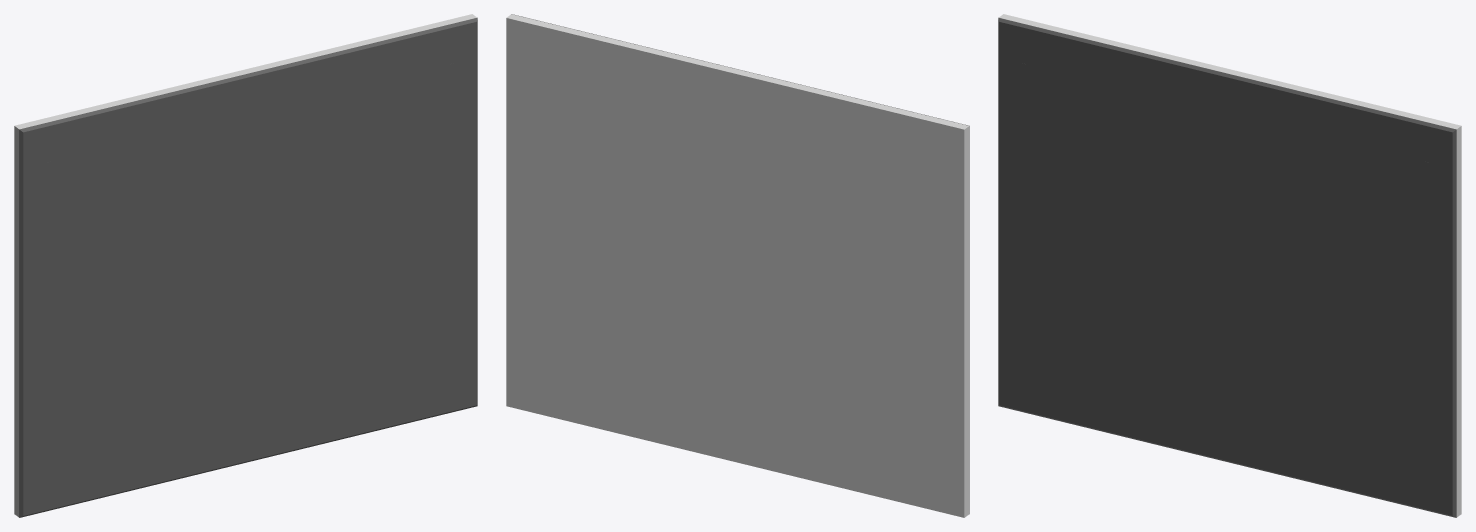
The model's file is AEC_45787.glb.
3 views of the same model, side by side, from view 1: azimuth 30°, elevation 25°; view 2: azimuth 150°, elevation 25°; view 3: azimuth 330°, elevation 25° (orthographic).
Visible parts, largest first — view 1: 0; view 2: 0; view 3: 0.
Boxes of the visible parts, left/top/right/bottom form: 0: left=14, top=14, right=477, bottom=517; 0: left=506, top=14, right=969, bottom=517; 0: left=998, top=14, right=1461, bottom=517.
Size of the model in its own units: 1 by 0.8101 by 0.025.
Materials: 1 (1 with a texture image).
